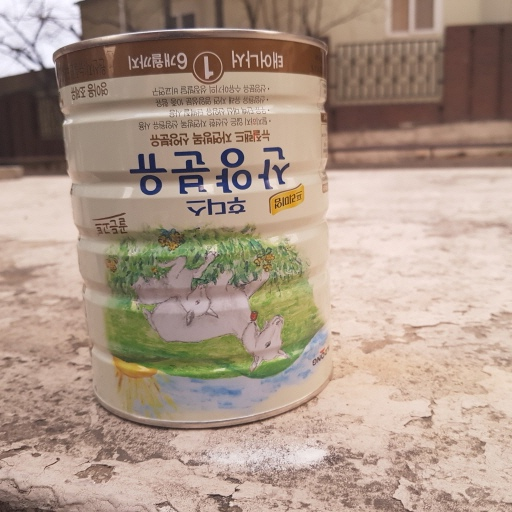Metal_1: (50, 26, 337, 431)
